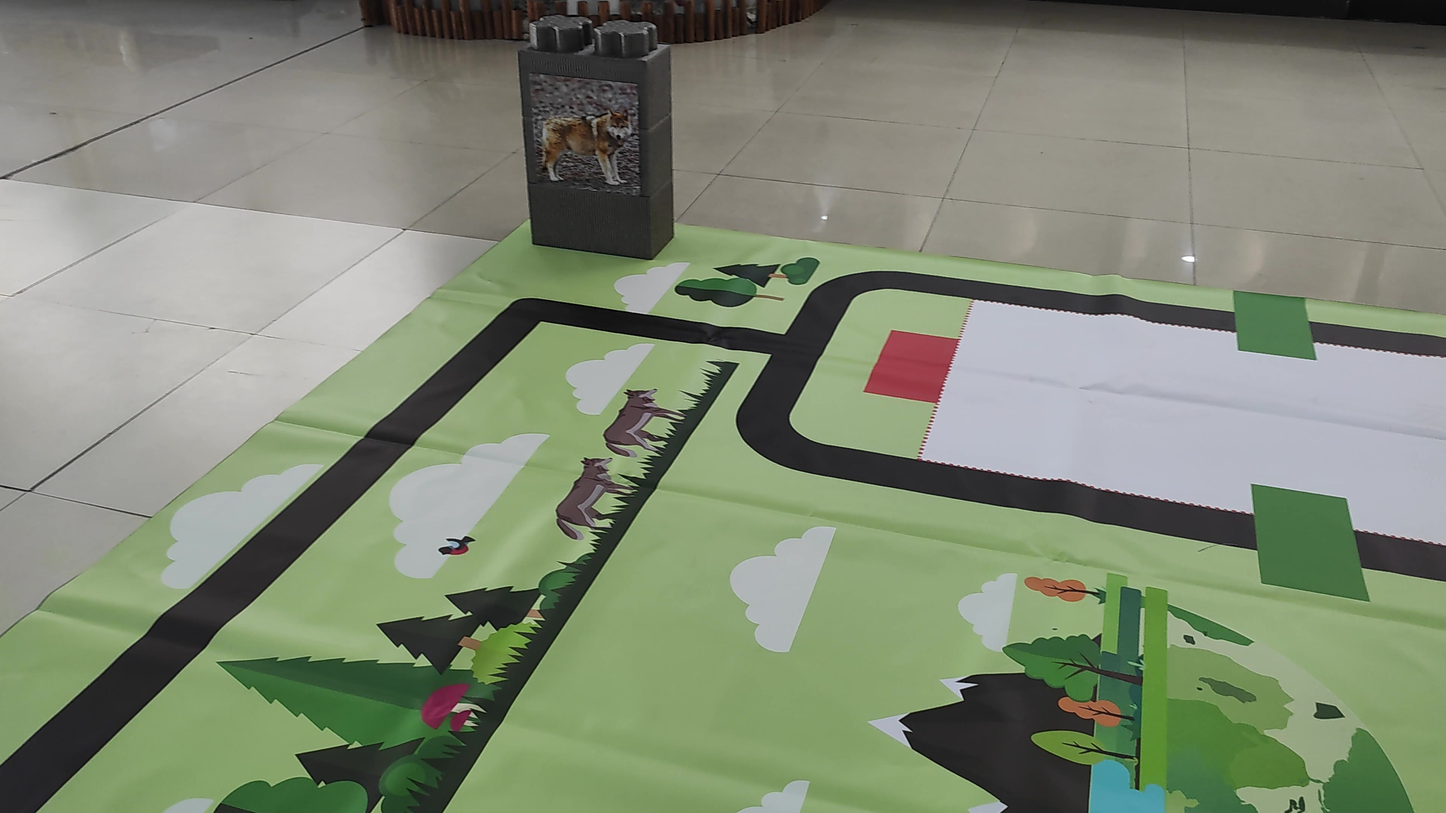wolf: (526, 87, 652, 220)
